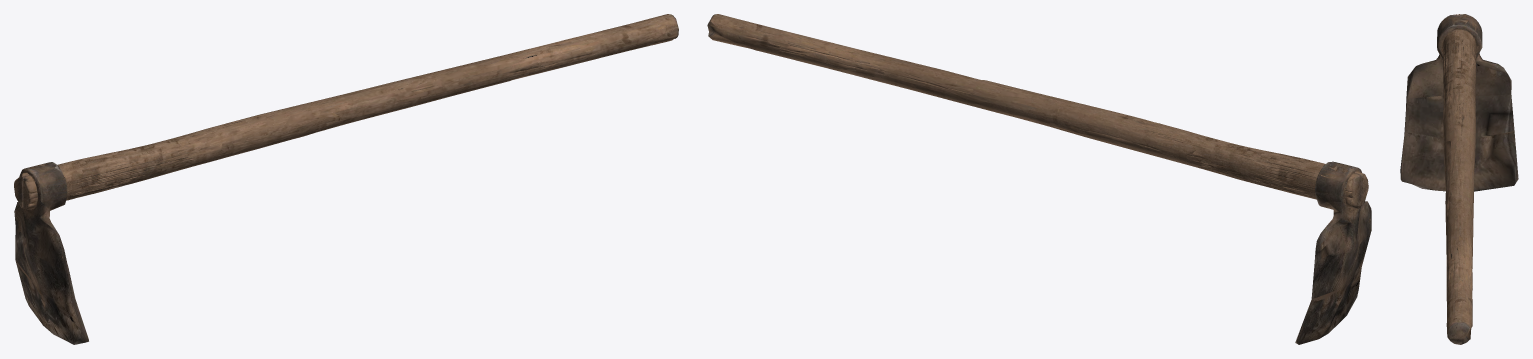
The model's file is hoe.glb.
3 views of the same model, side by side, from view 1: azimuth 30°, elevation 25°; view 2: azimuth 150°, elevation 25°; view 3: azimuth 270°, elevation 25° (orthographic).
Visible parts, largest first — view 1: output_unwrapped; view 2: output_unwrapped; view 3: output_unwrapped.
Part boxes in pixels (x1,y1,x2,y2): output_unwrapped: (14, 14, 678, 344); output_unwrapped: (707, 14, 1371, 344); output_unwrapped: (1400, 14, 1518, 344).
Size of the model in its own units: 1.9 by 0.4756 by 0.3041.
Materials: 1 (1 with a texture image).
